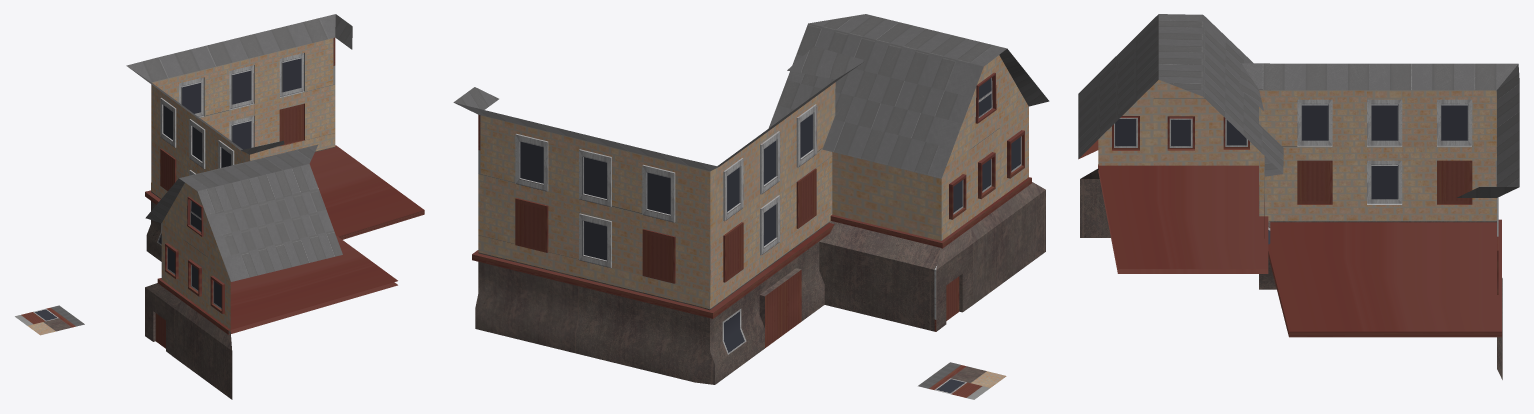
Rendered from cafebuilding textfbx.fbx.
The picture shows the model from 3 angles, left to right: view 1: azimuth 30°, elevation 25°; view 2: azimuth 150°, elevation 25°; view 3: azimuth 270°, elevation 25°; orthographic projection. The views are drawn at different scales.
Parts seen in each view (by area): view 1: Cube.008; view 2: Cube.008; view 3: Cube.008.
Part boxes in pixels (x1=…): Cube.008: x1=15, y1=14, x2=424, y2=399; Cube.008: x1=453, y1=14, x2=1049, y2=399; Cube.008: x1=1078, y1=14, x2=1519, y2=379.
Size of the model in its own units: 16947 by 8176 by 14694.
